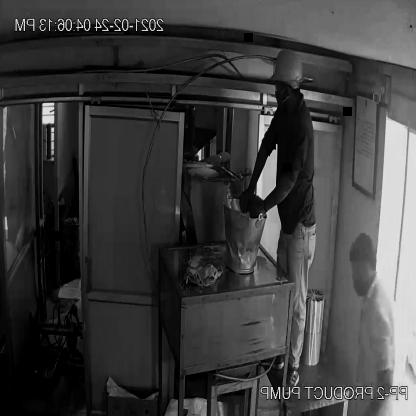helmet: (269, 46, 305, 91)
